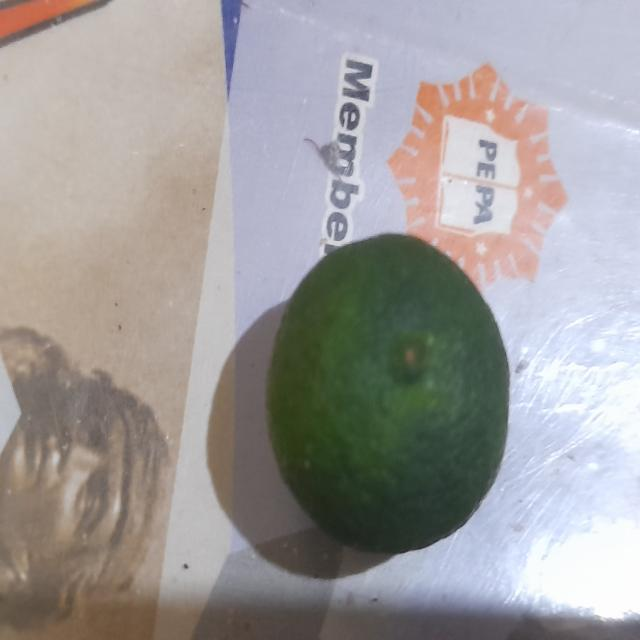heathy: (270, 234, 510, 556)
